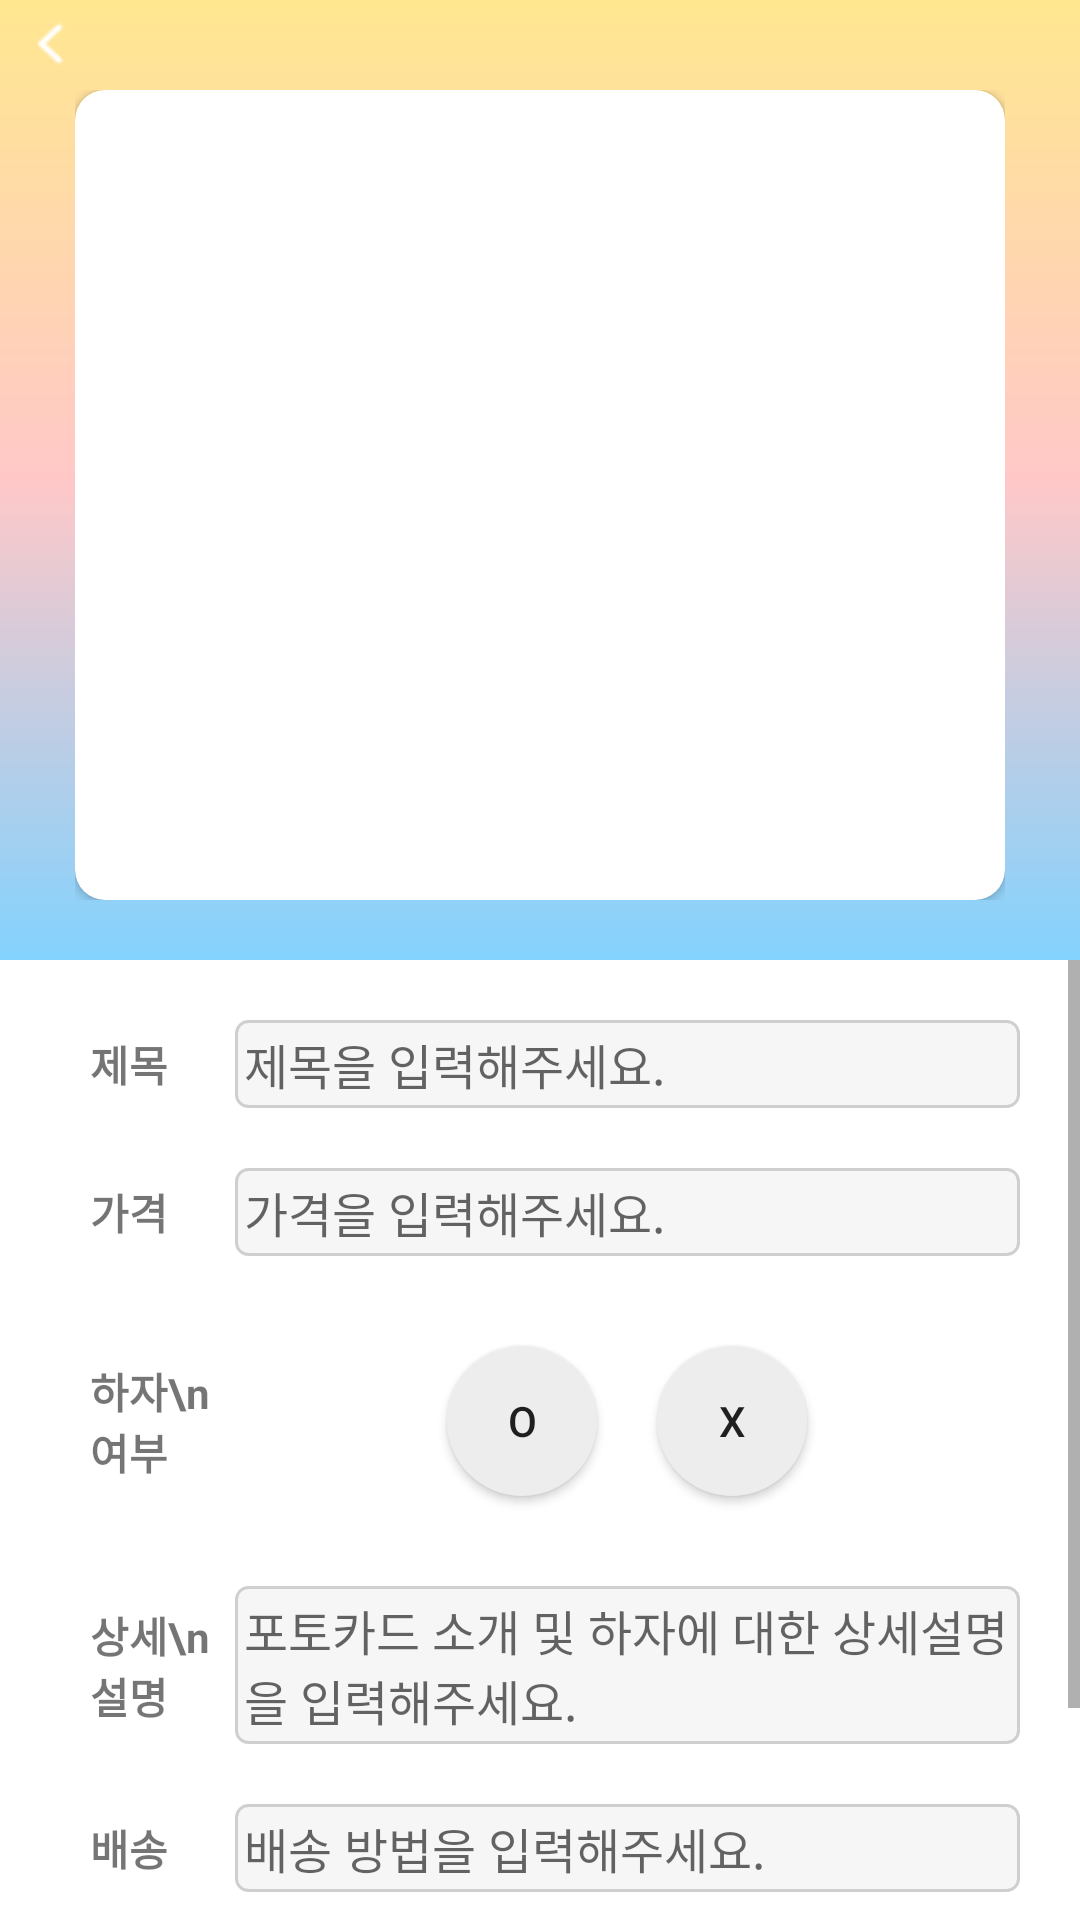

Screen size 1080 x 1920. Icon name, then its center in pixels as point (x, y):
back: point (50, 43)
